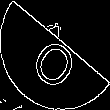O_NE: (26, 22, 84, 88)
